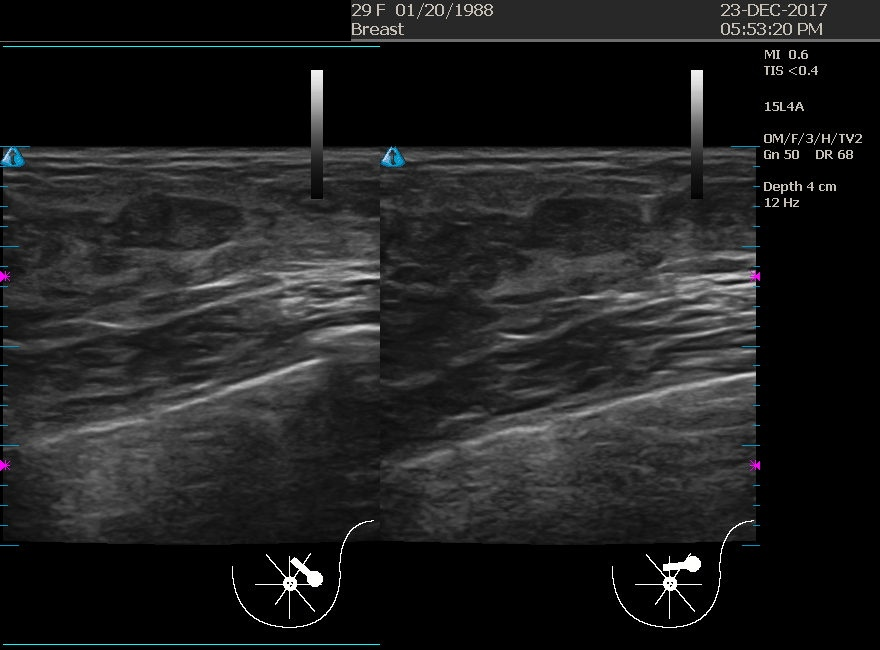BIRADS_4: (83, 151, 283, 351), (474, 156, 674, 356)
